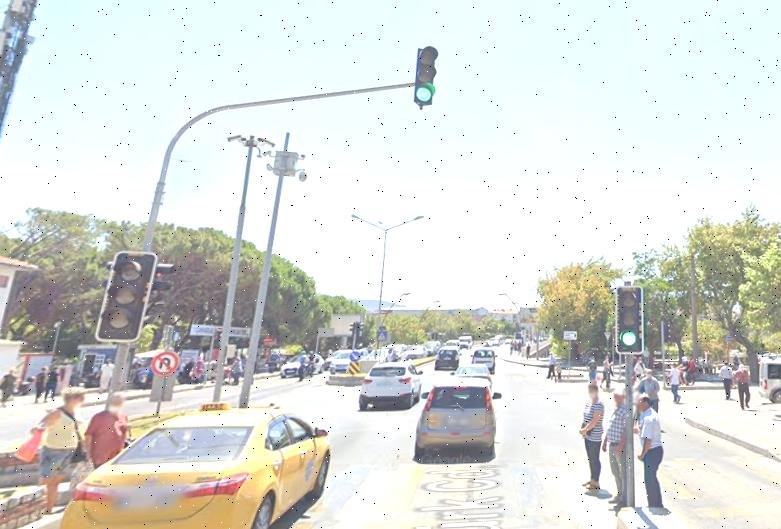greenlight: (615, 280, 643, 355), (413, 47, 438, 108)
